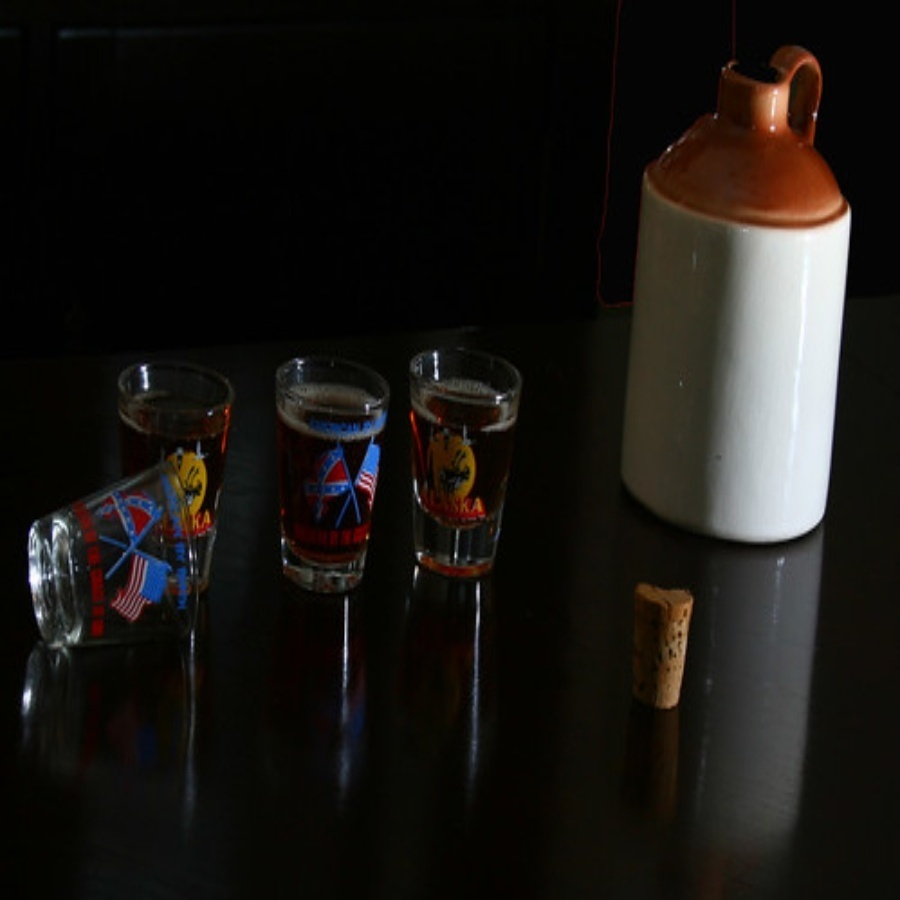whiskey: (23, 455, 197, 639), (407, 358, 517, 587), (282, 369, 392, 598), (123, 361, 233, 590)
